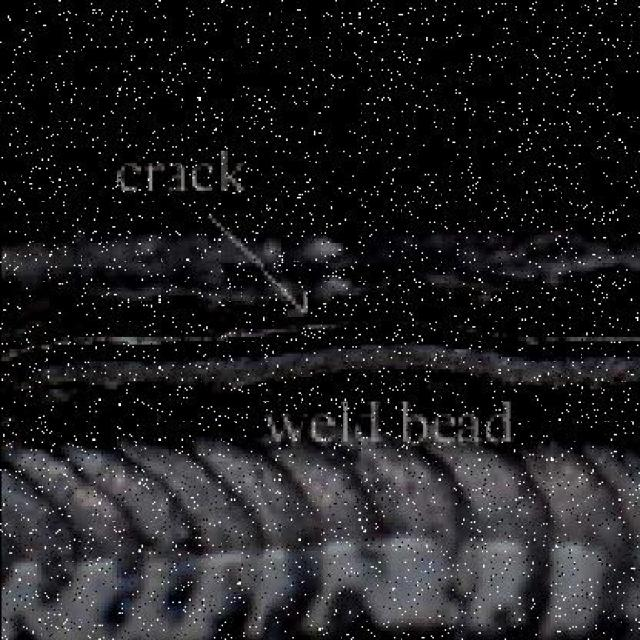Defect: (1, 315, 634, 377)
